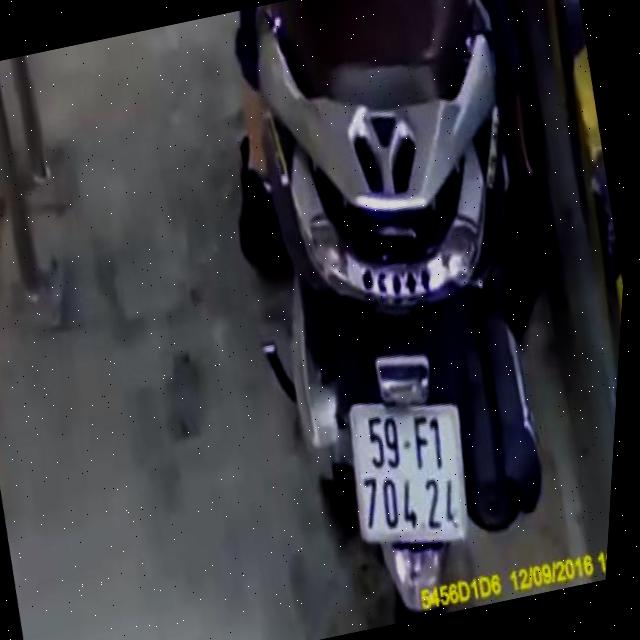motorcycle: (185, 0, 604, 639)
plate: (327, 380, 490, 568)
